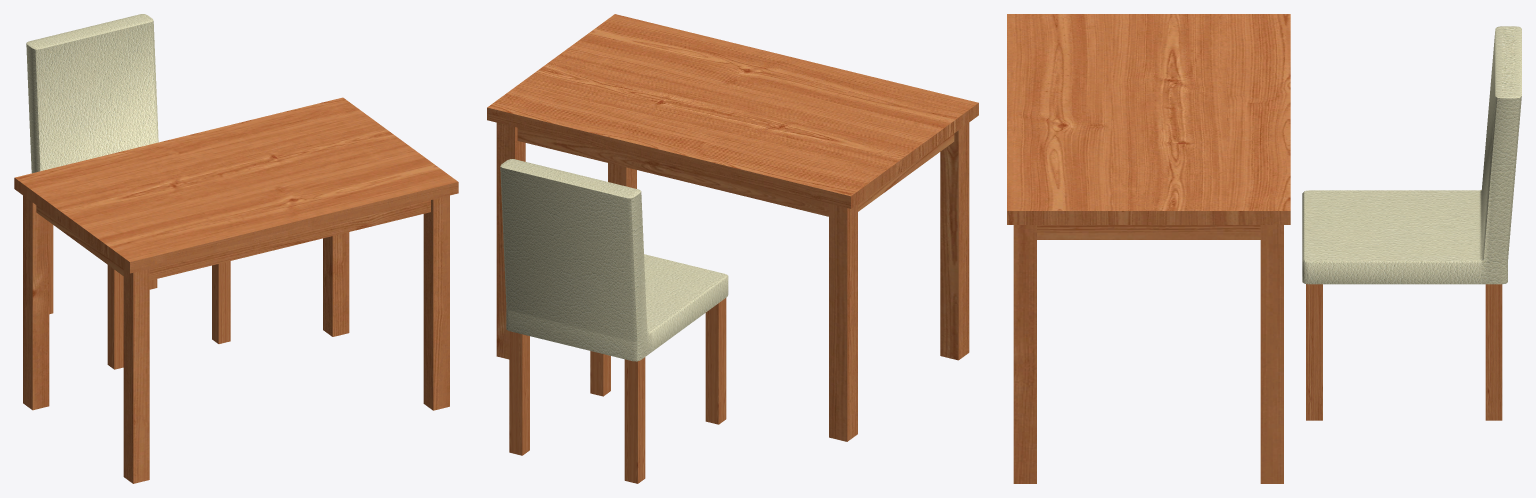
The model's file is dining_table.fbx.
3 views of the same model, side by side, from view 1: azimuth 30°, elevation 25°; view 2: azimuth 150°, elevation 25°; view 3: azimuth 270°, elevation 25° (orthographic). The views are drawn at different scales.
Visible parts, largest first — view 1: table, Chair; view 2: table, Chair; view 3: table, Chair.
Part boxes in pixels (x1,y1,x2,y2): table: (14,97,458,483); Chair: (26,14,230,369); table: (487,14,978,441); Chair: (500,159,728,483); table: (1007,14,1290,483); Chair: (1302,26,1521,420).
Bounding box in the file's own units: 0.512 × 0.397 × 0.5656.
Materials: 3 (3 with a texture image).
